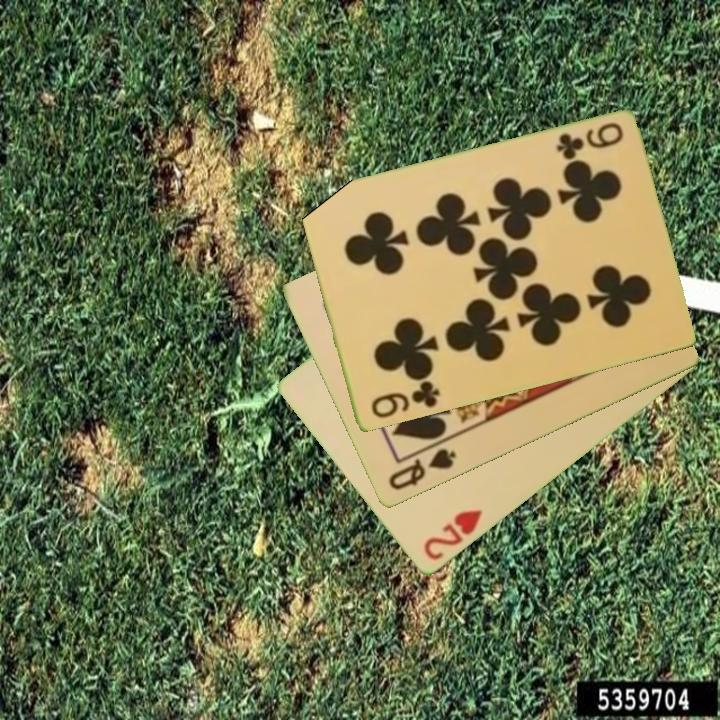2h: (420, 506, 485, 564)
9c: (367, 377, 443, 422), (552, 119, 626, 163)
Qs: (385, 445, 459, 494)
